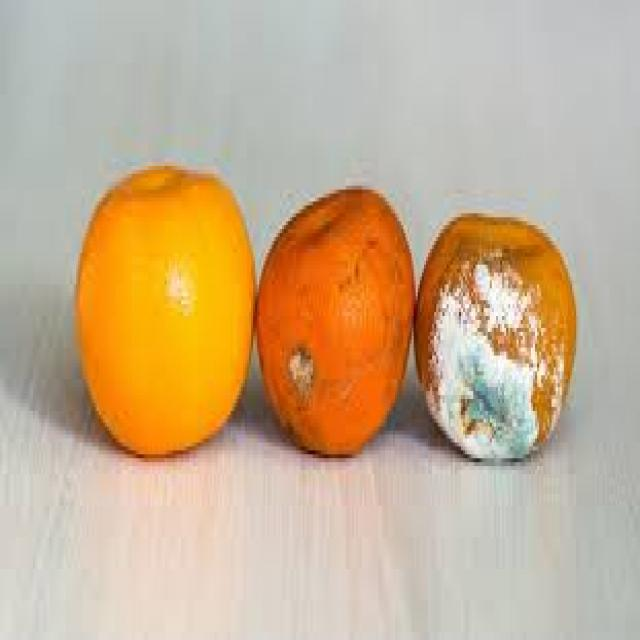organic waste: (74, 162, 255, 450), (255, 182, 416, 450), (412, 210, 576, 462)
